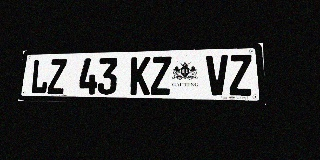3: (97, 58, 118, 95)
4: (78, 58, 99, 94)
K: (130, 57, 151, 95)
L: (30, 59, 50, 94)
V: (206, 55, 229, 95)
Z: (229, 54, 253, 96), (150, 56, 171, 95), (47, 59, 67, 94)
